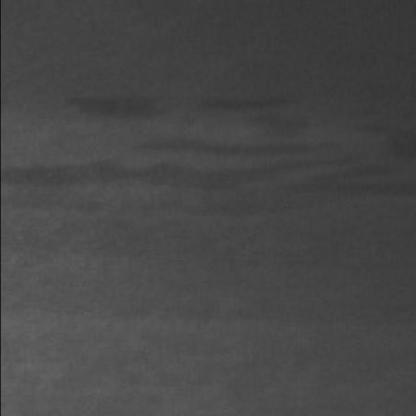inclusion: (6, 137, 416, 202), (64, 85, 310, 131)
